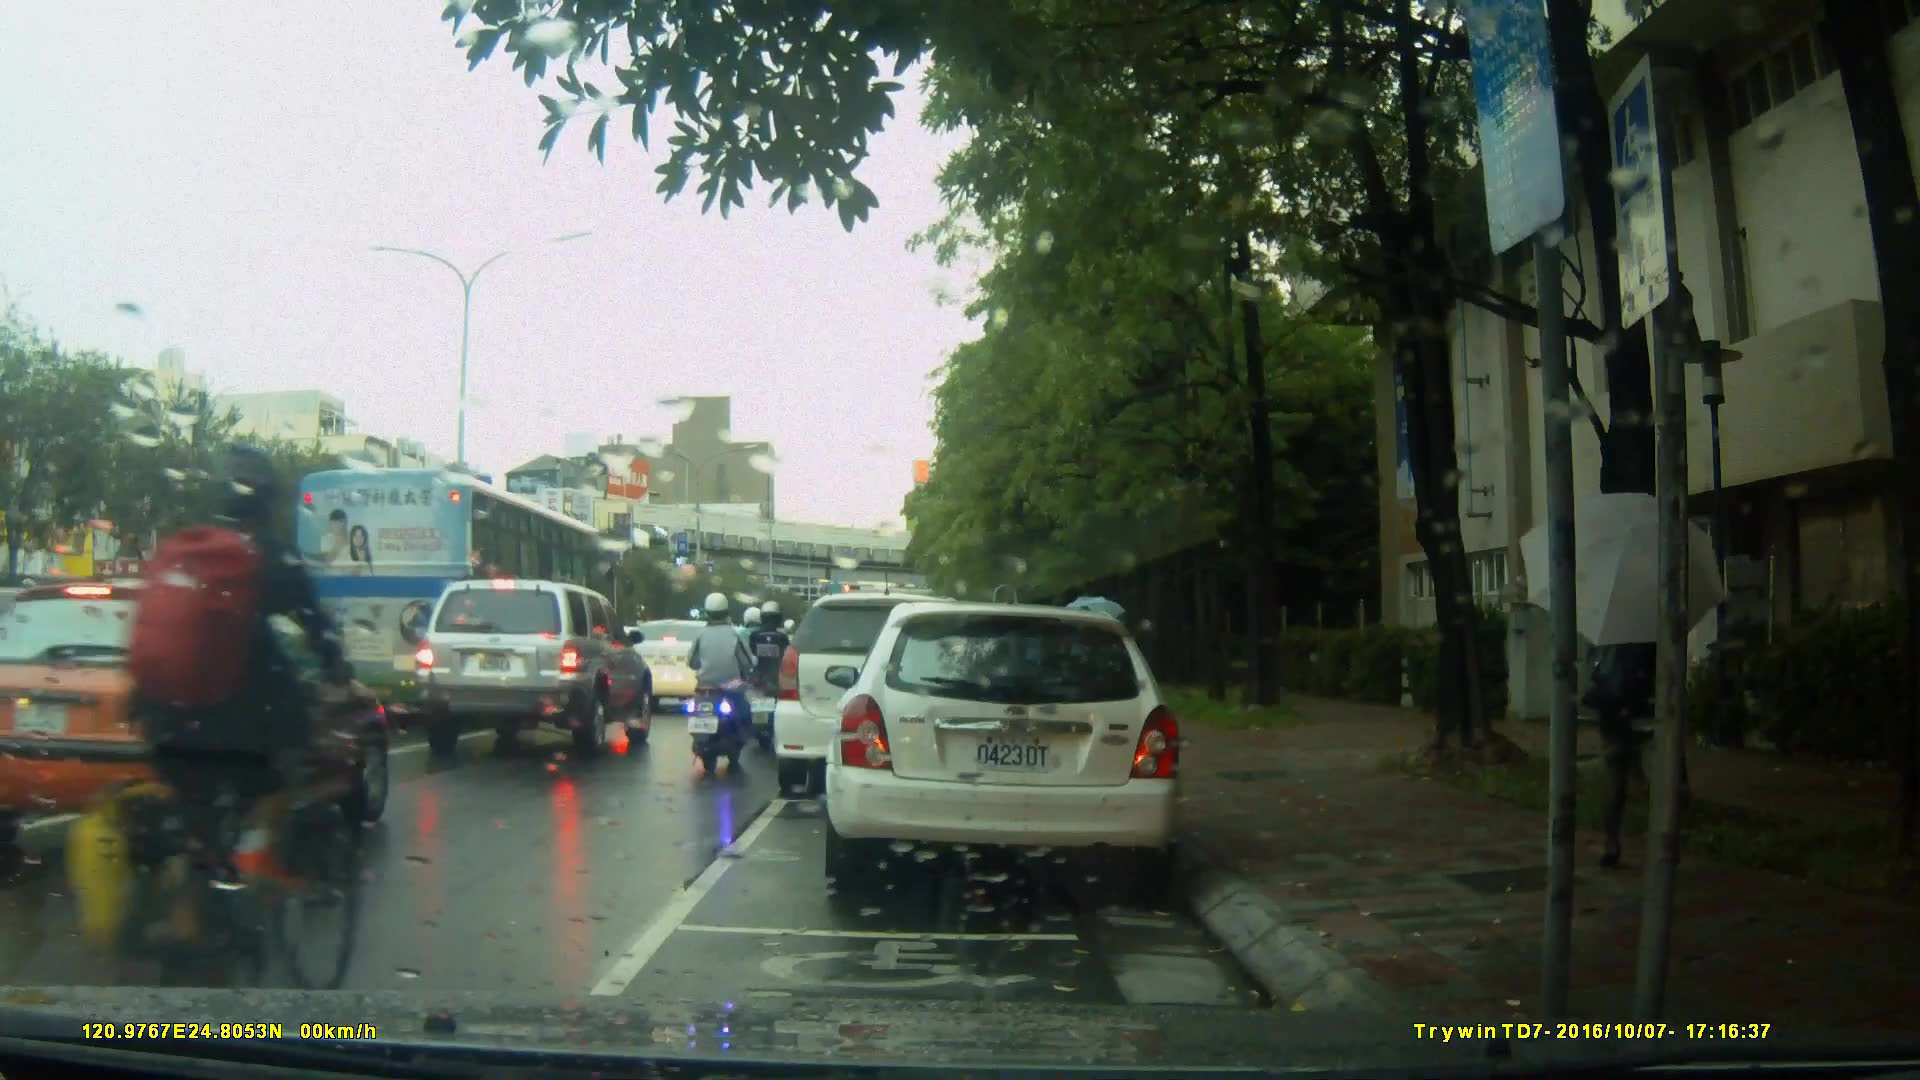pedestrian: (1597, 523, 1730, 888)
rider: (53, 450, 343, 1025), (682, 588, 754, 777), (743, 605, 800, 750), (730, 601, 778, 721)
vehicle: (3, 580, 389, 878), (835, 594, 1194, 898), (293, 468, 616, 739), (776, 590, 1026, 784), (407, 577, 657, 755)
